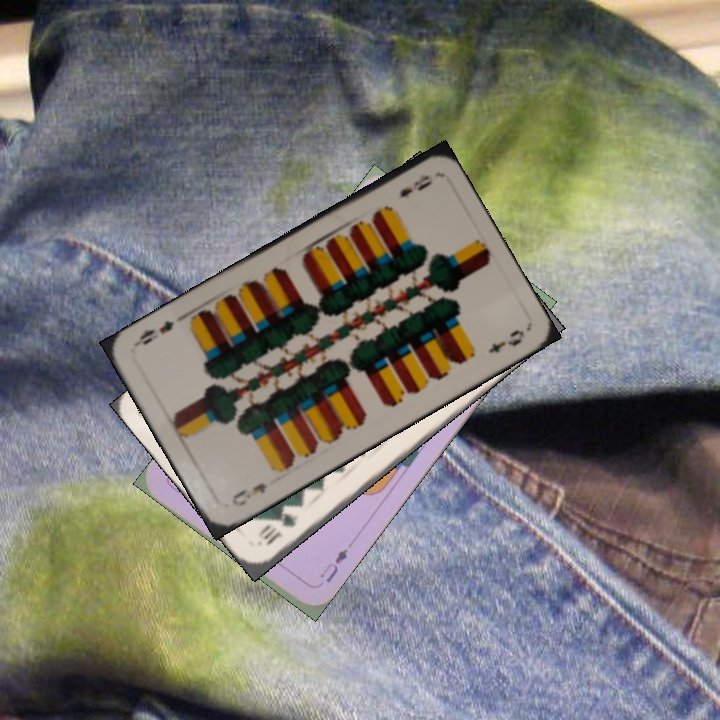E9: (395, 170, 435, 201), (228, 479, 269, 509)
EU: (316, 544, 351, 586)
G10: (256, 509, 301, 549)
